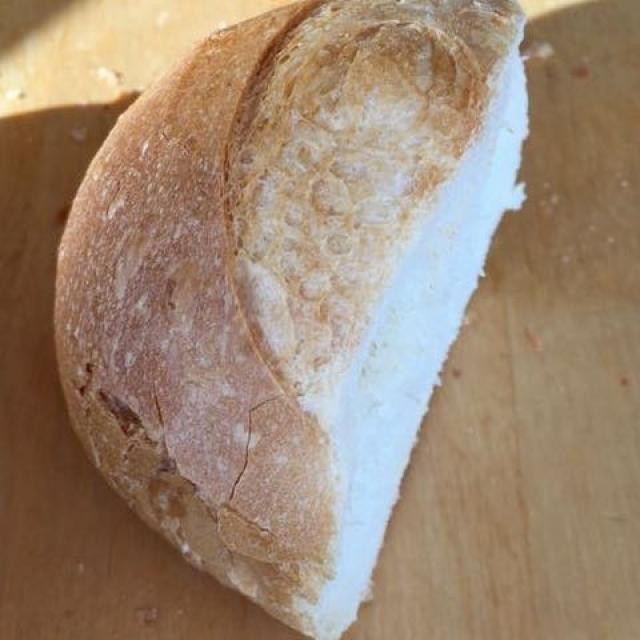bread: (57, 10, 521, 621)
